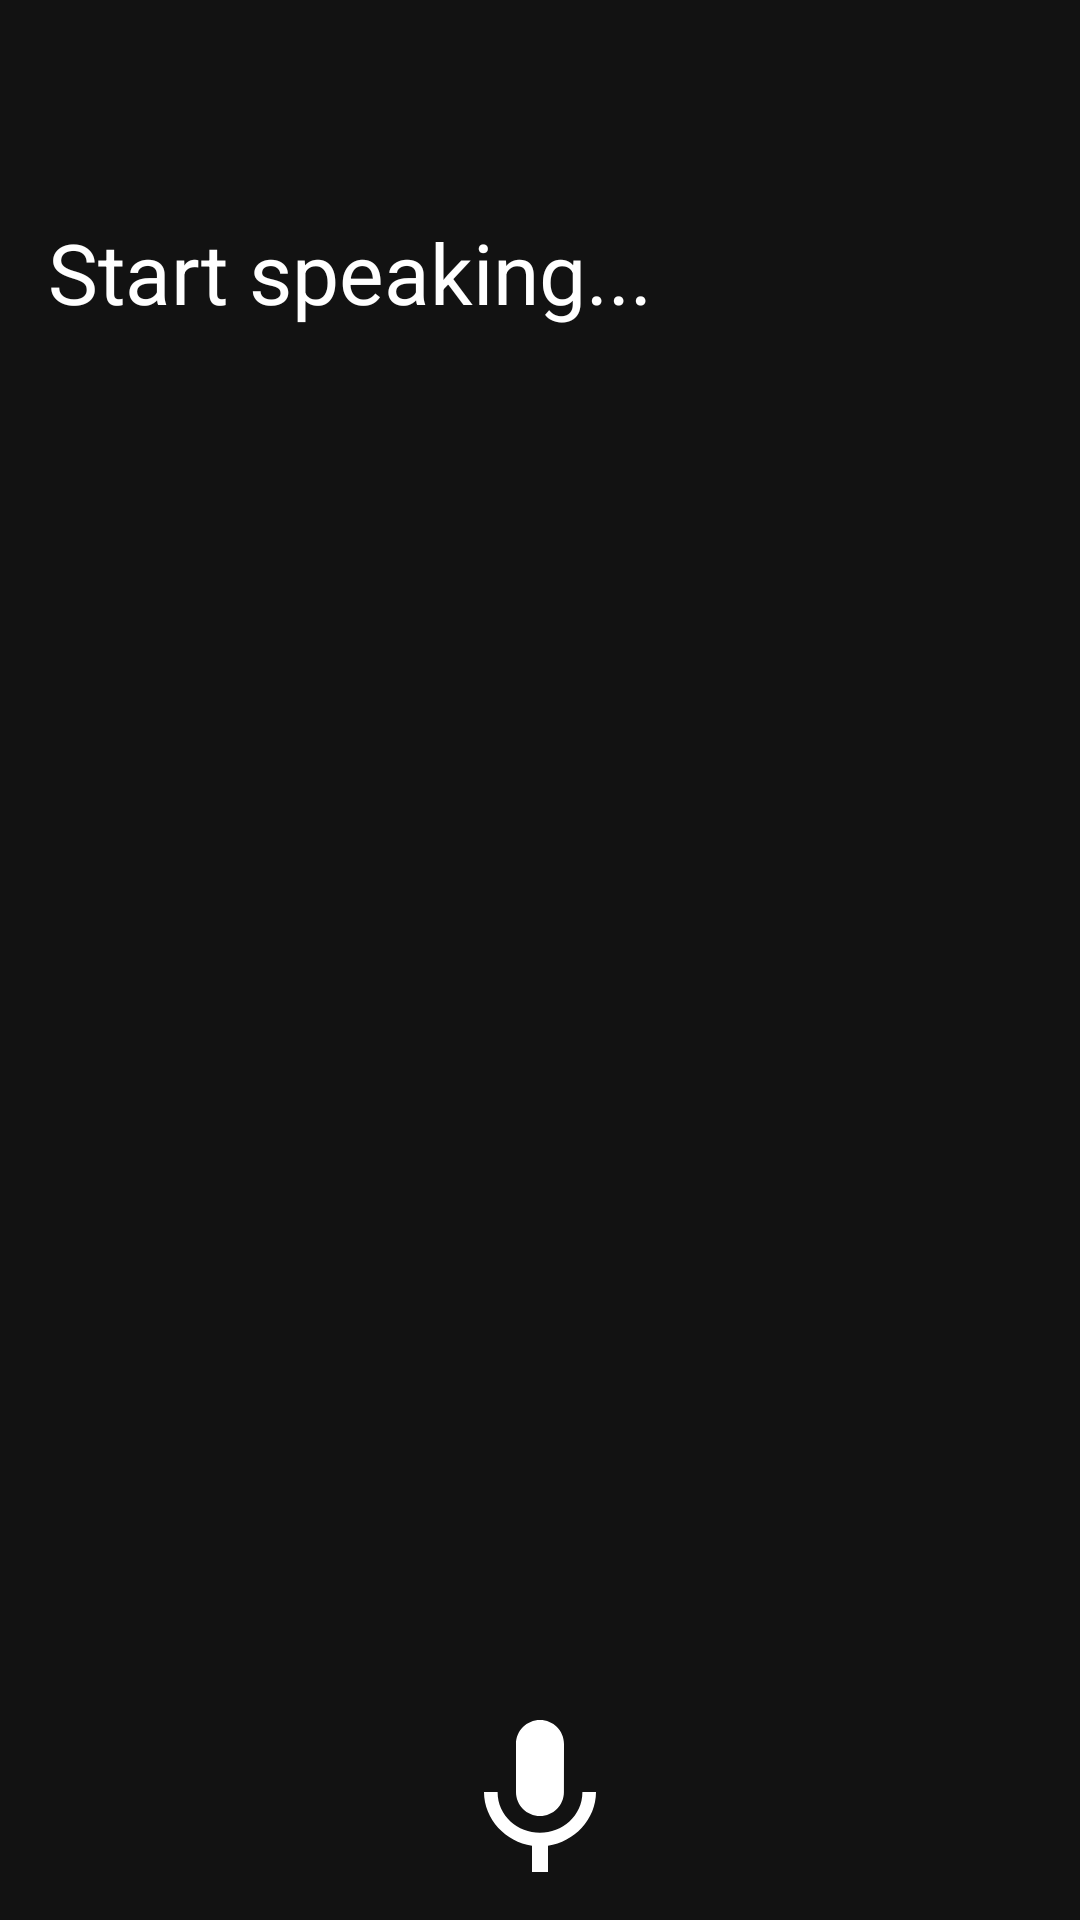

Icon click points for this 1080x1920 phone screenshot, format (x,y):
mic: (540,1796)
